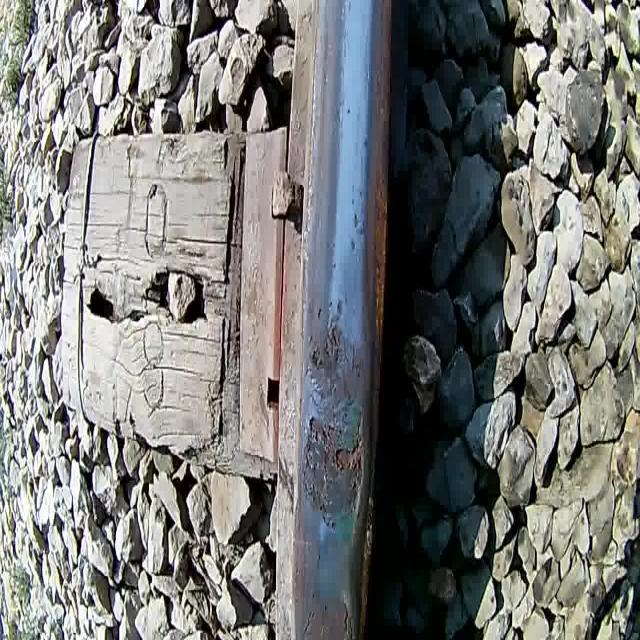Cracks: (337, 592, 356, 640), (299, 604, 315, 640)
Spallings: (303, 417, 365, 513), (306, 319, 347, 370)
Squats: (298, 415, 367, 533), (301, 295, 367, 415), (293, 580, 359, 640)
